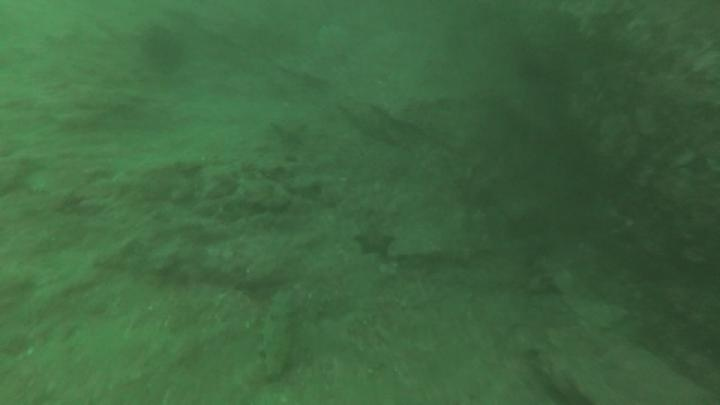echinus: (138, 23, 188, 74)
holothurian: (254, 286, 299, 384)
starfish: (352, 222, 398, 260)
